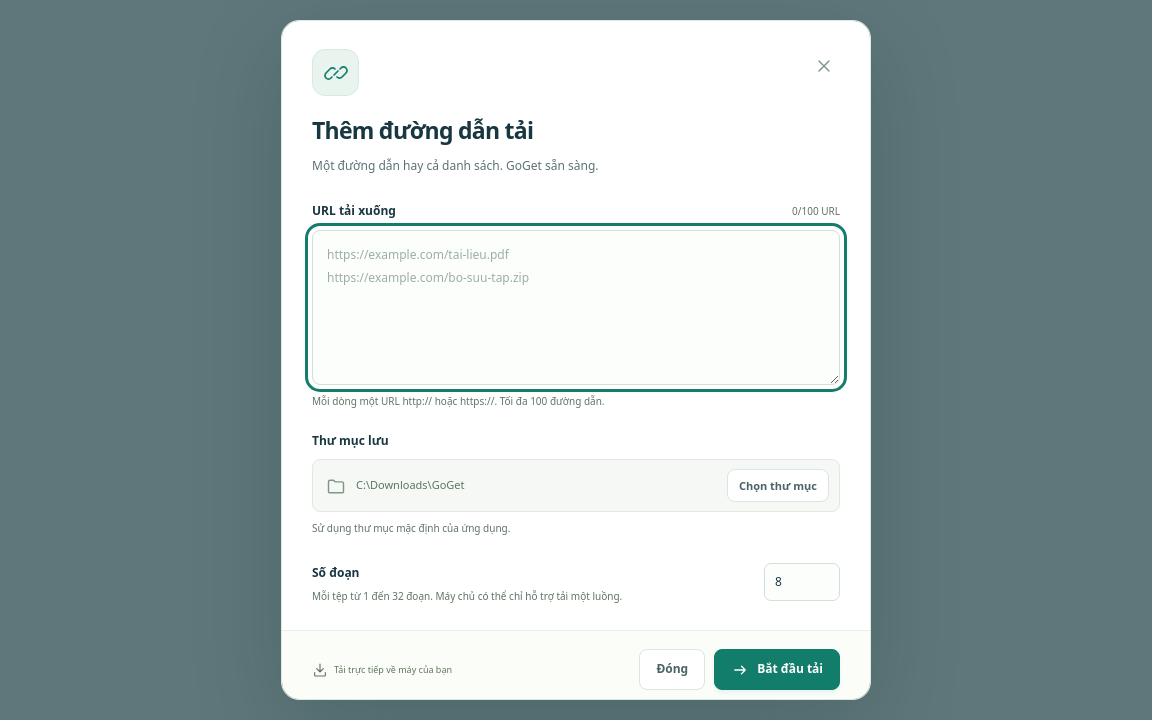
Add URLs dialog › shows picker and AddURLs failures in the dialog
Click the button "Chọn thư mục": (778, 486) 727,469 -> 829,502
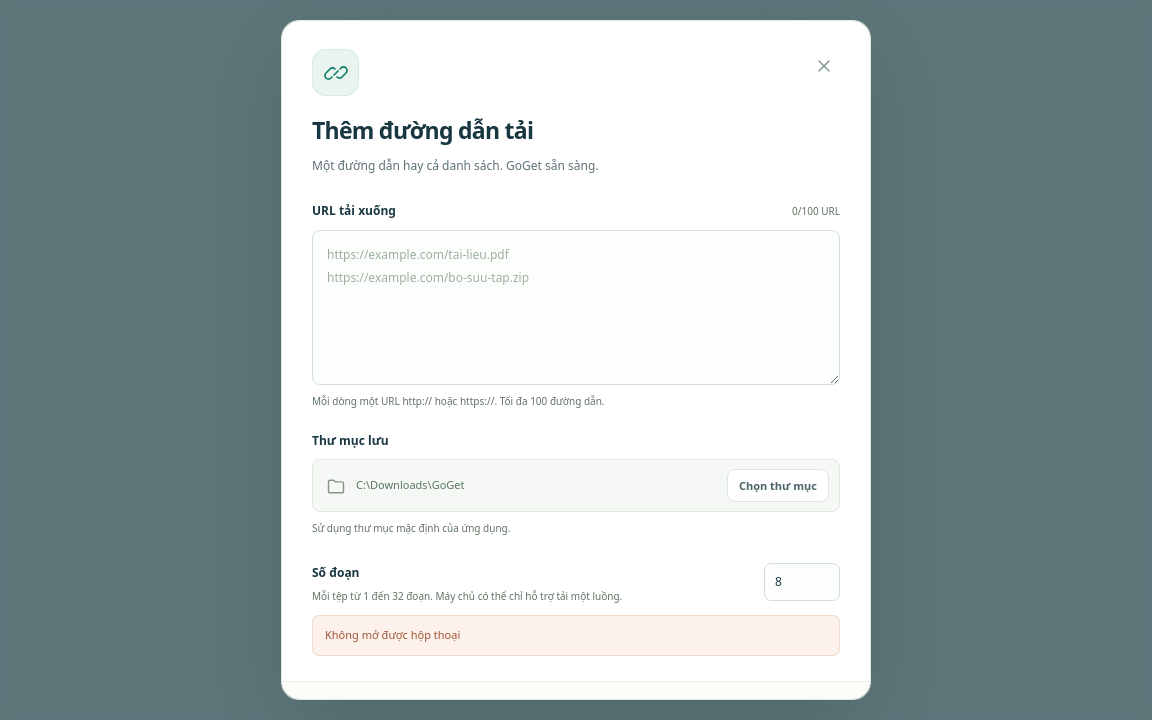
Now the message reads "Không mở được hộp thoại", box 325,627 -> 460,642
Replace the text in the text box labelled "URL tải xuống" with "https://example.com/a": (576, 308) 312,230 -> 840,385
(page scrolled)
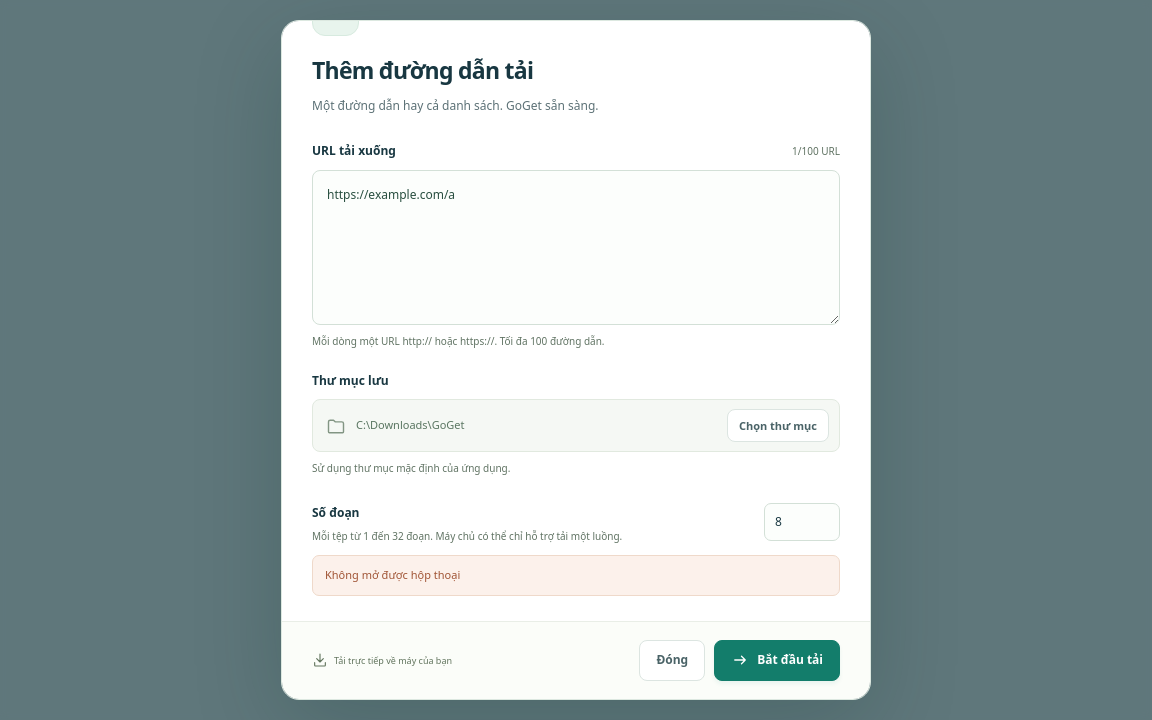
Click the button "Bắt đầu tải": (777, 660) 714,640 -> 840,681
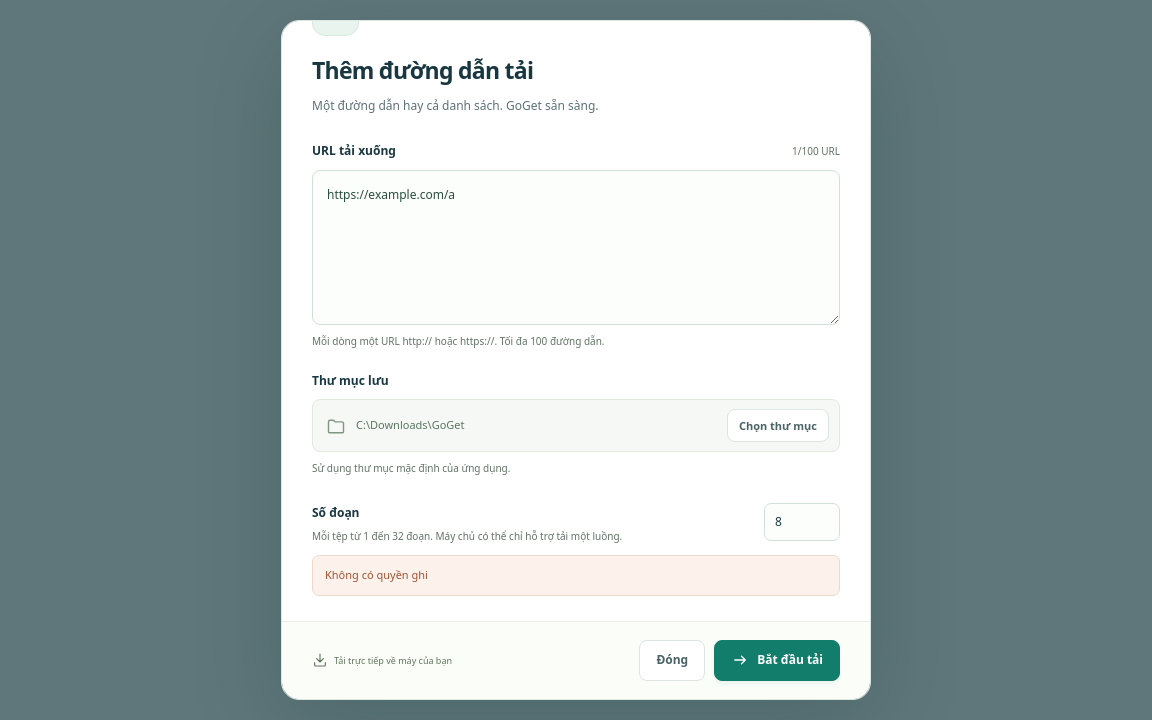
Now the message reads "Không có quyền ghi", box 325,567 -> 428,582
